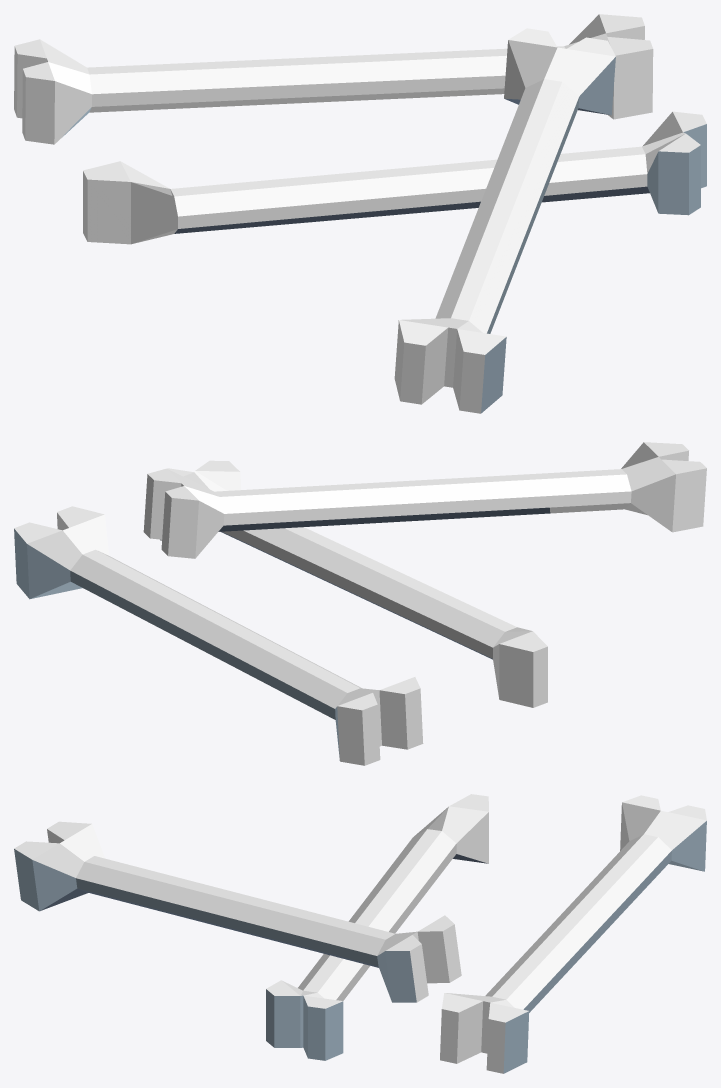
File: bone.fbx
The picture shows the model from 3 angles, top to bottom: view 1: azimuth 30°, elevation 25°; view 2: azimuth 150°, elevation 25°; view 3: azimuth 270°, elevation 25°; orthographic projection. The views are drawn at different scales.
Parts seen in each view (by area): view 1: cuboid_1, cuboid_2, cuboid; view 2: cuboid, cuboid_2, cuboid_1; view 3: cuboid, cuboid_2, cuboid_1.
Part boxes in pixels (x1,y1,x2,y2): cuboid_1: (83,111,706,244); cuboid_2: (14,14,653,144); cuboid: (394,28,615,413); cuboid: (143,442,706,558); cuboid_2: (14,506,423,765); cuboid_1: (160,460,547,707); cuboid: (14,821,461,1002); cuboid_2: (440,795,706,1073); cuboid_1: (266,794,488,1060).
Bounding box in the file's own units: 30.14 × 6.05 × 37.7.
Materials: 1 (1 with a texture image).
